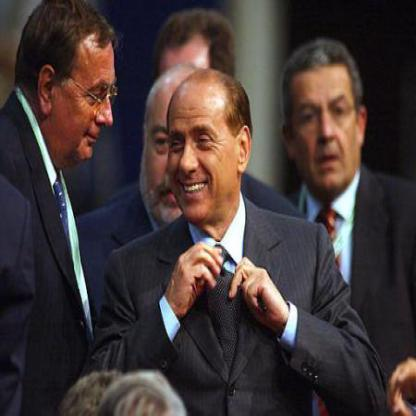face: (165, 71, 241, 224), (144, 71, 215, 232), (290, 43, 362, 198), (56, 18, 120, 173)
